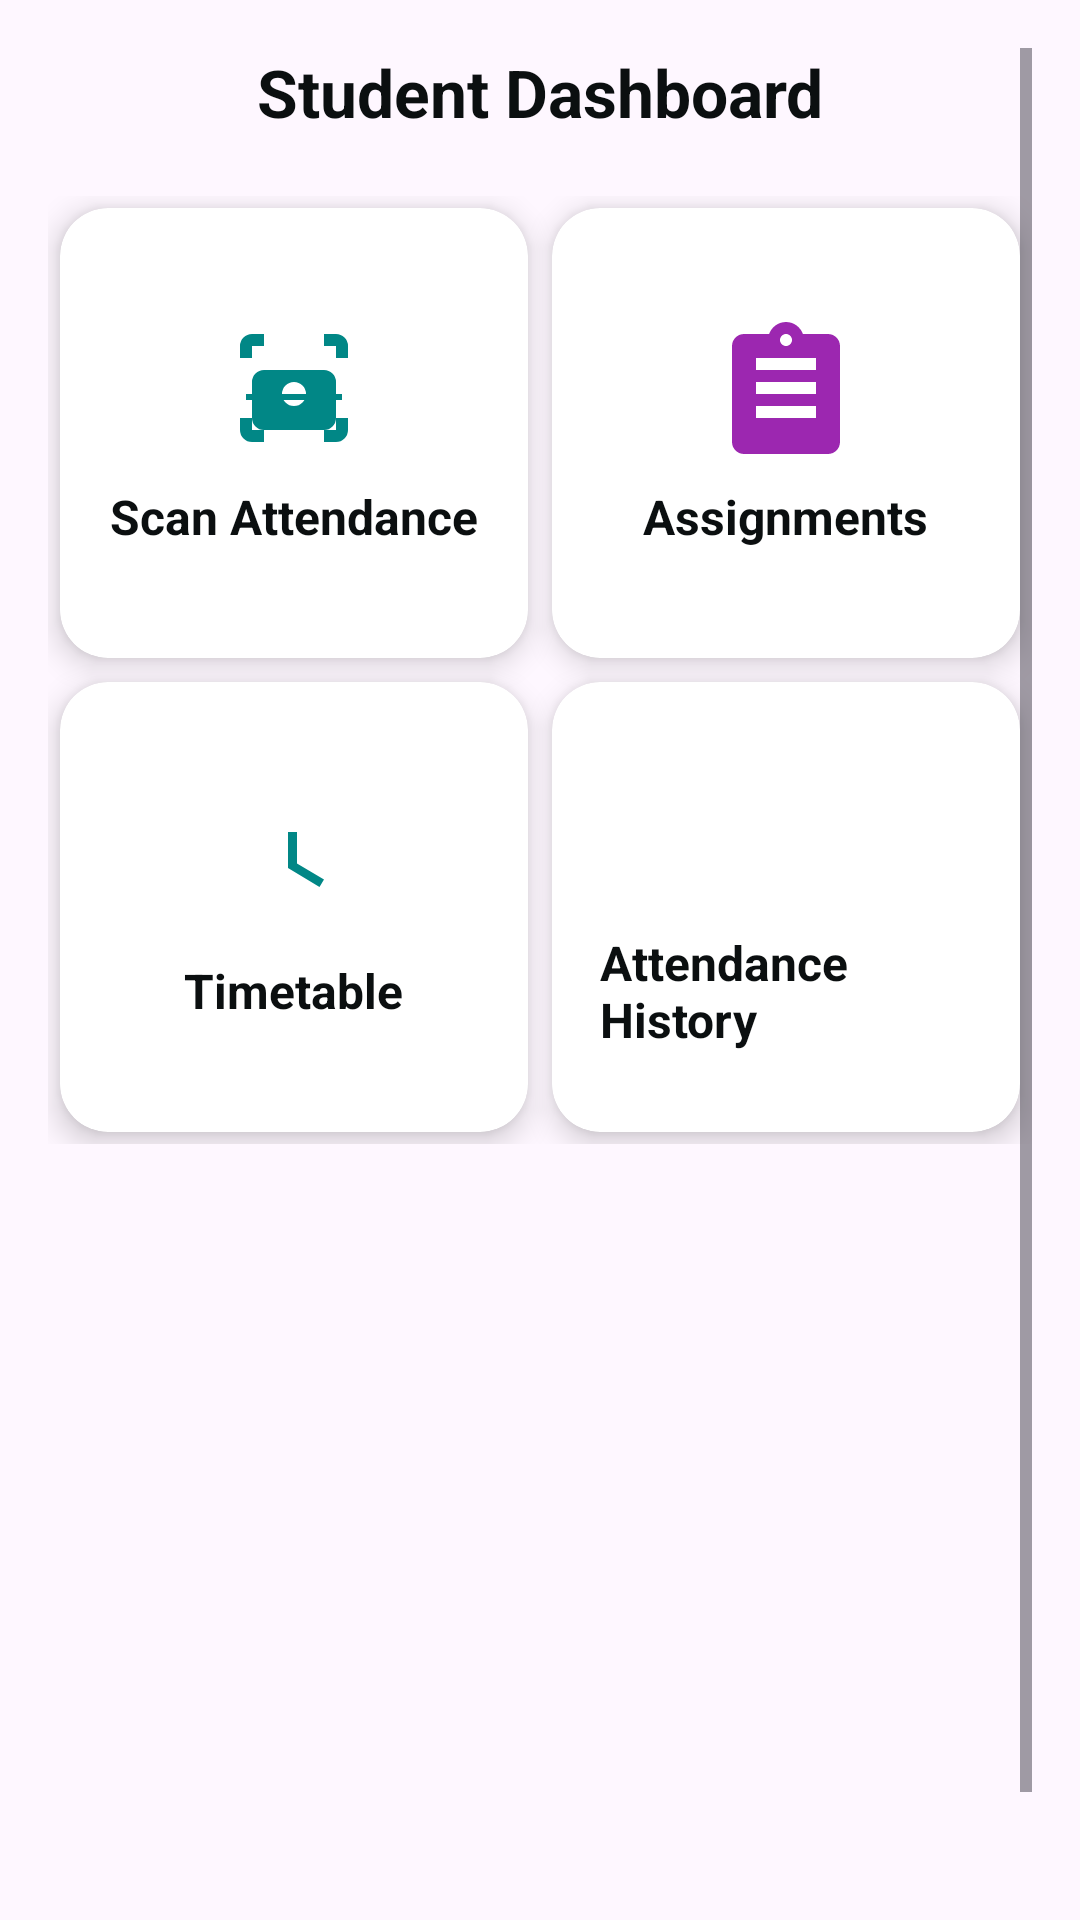

Locate icon controls on the screen. Image size 1080px x 1920px, boxes as (x1,y1,x2,y2).
qr scanner: (240,334,348,442)
